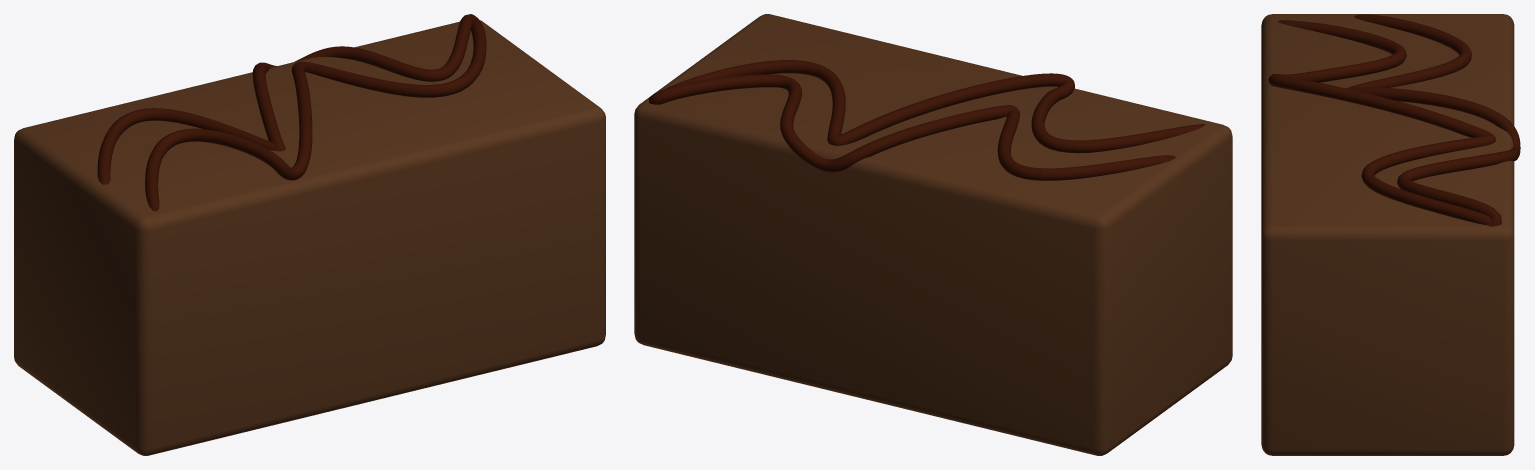
The model's file is pralinka2.fbx.
The picture shows the model from 3 angles, left to right: view 1: azimuth 30°, elevation 25°; view 2: azimuth 150°, elevation 25°; view 3: azimuth 270°, elevation 25°; orthographic projection. The views are drawn at different scales.
Visible parts, largest first — view 1: NurbsPath.001; view 2: NurbsPath.001; view 3: NurbsPath.001.
Boxes of the visible parts, x1,y1,x2,y2 form: NurbsPath.001: [14, 14, 605, 455]; NurbsPath.001: [634, 14, 1232, 455]; NurbsPath.001: [1261, 14, 1520, 455].
Bounding box in the file's own units: 412 × 217 × 205.
